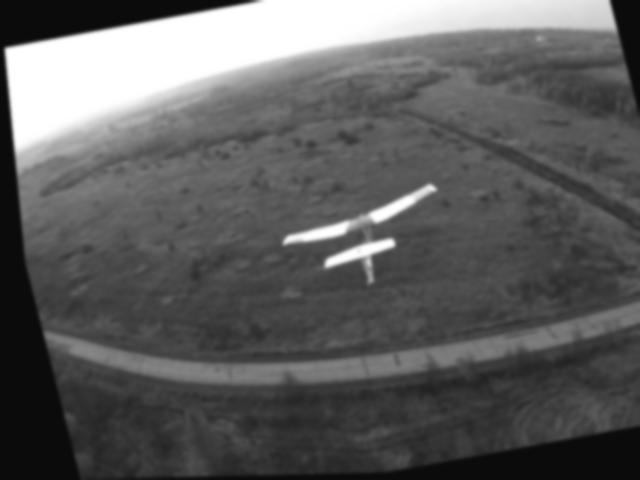hedef: (258, 173, 459, 310)
